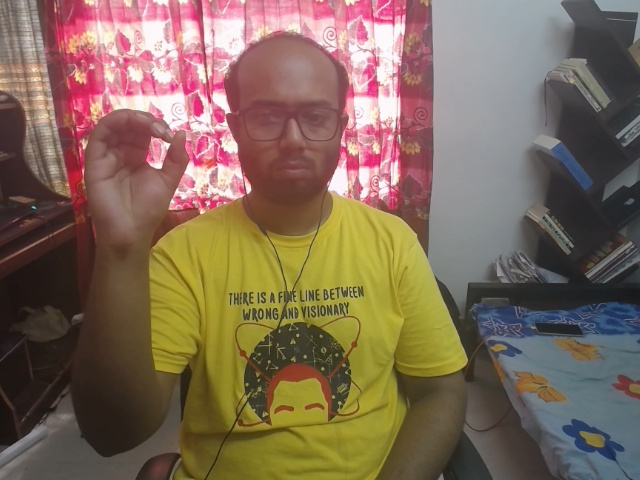zero: (67, 96, 201, 273)
